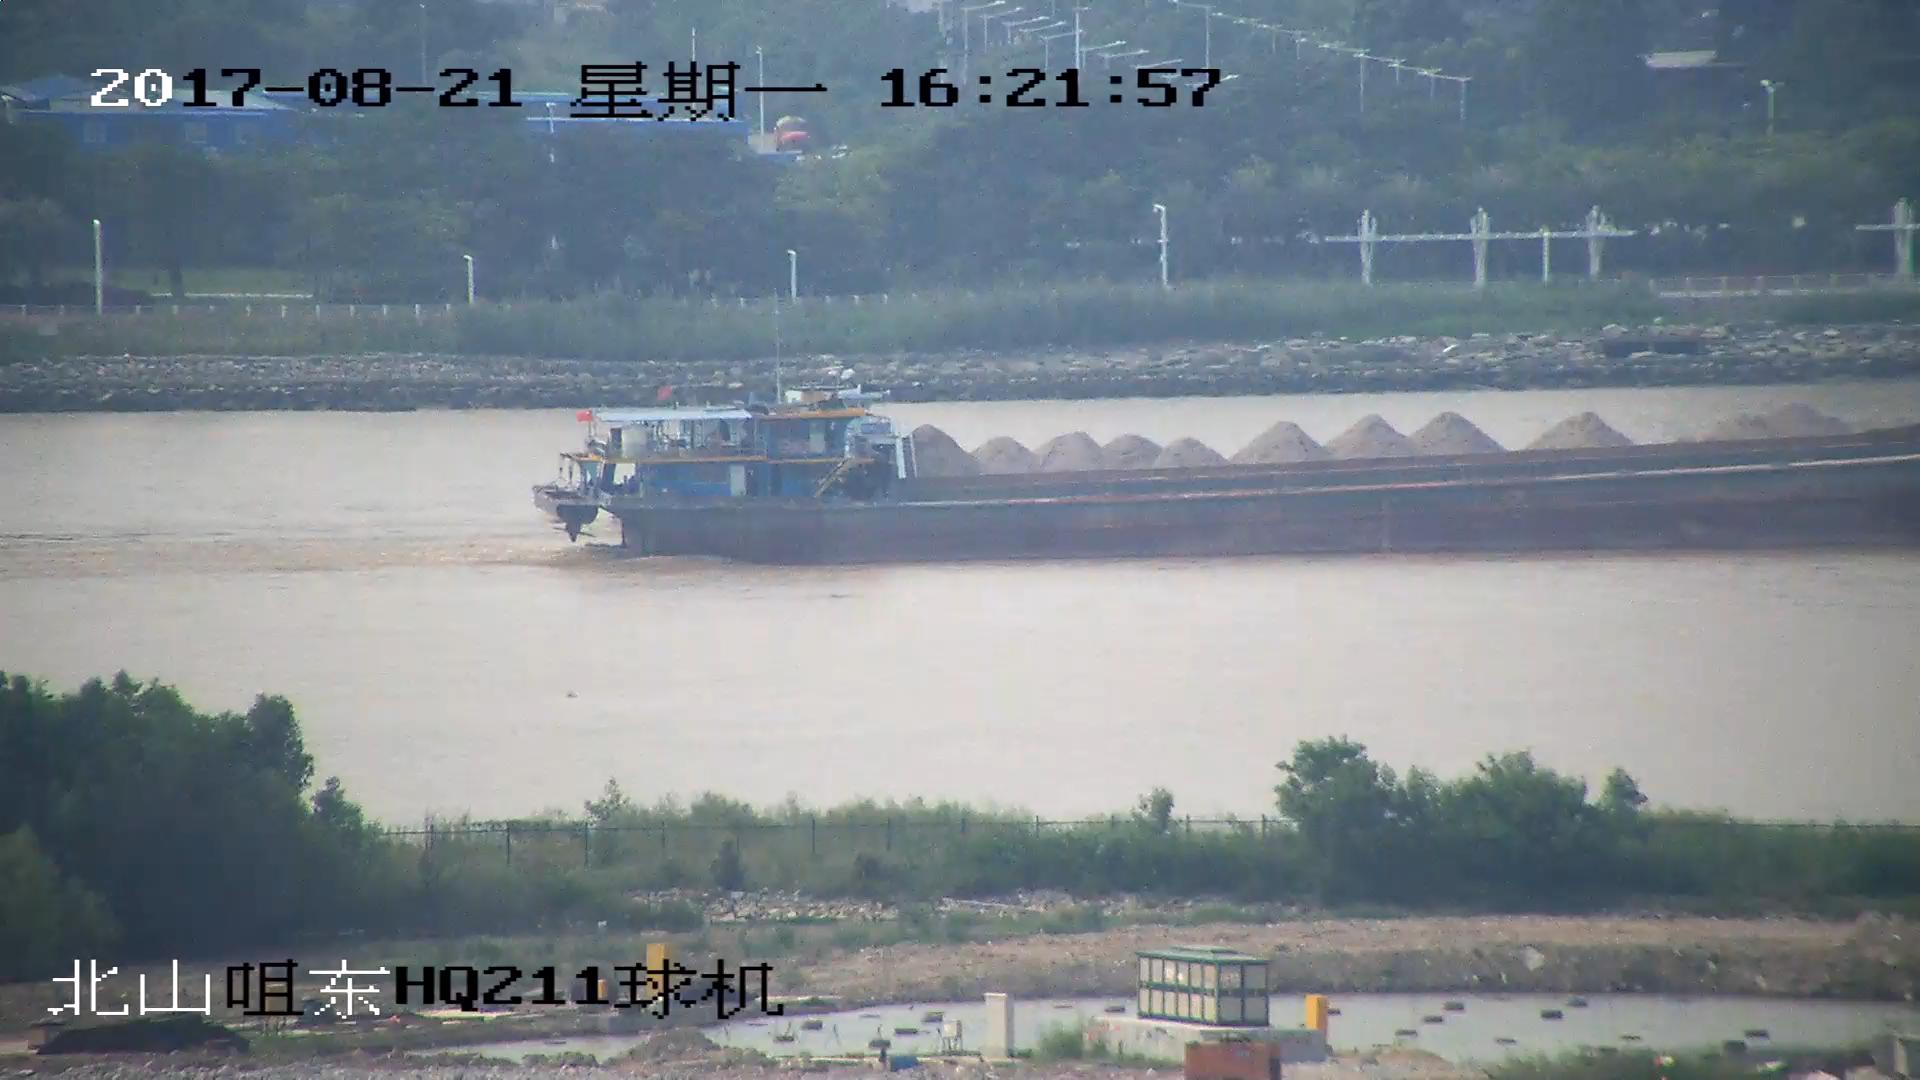bulk cargo carrier: (538, 410, 1920, 552)
ore carrier: (651, 380, 1920, 466)
